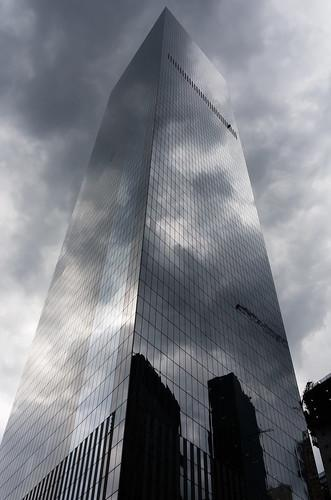building: (3, 4, 331, 500)
